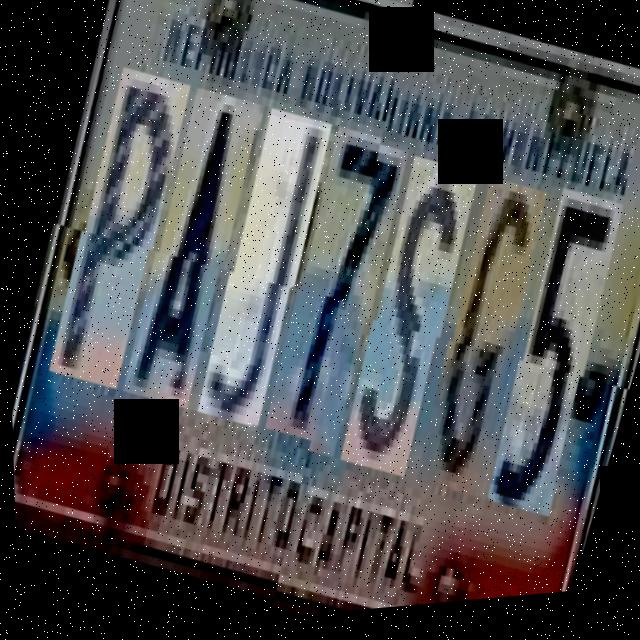5: (465, 189, 640, 527)
7: (239, 133, 425, 466)
A: (98, 93, 276, 423)
G: (395, 177, 566, 506)
J: (172, 114, 348, 443)
P: (23, 71, 206, 404)
S: (316, 155, 496, 486)
